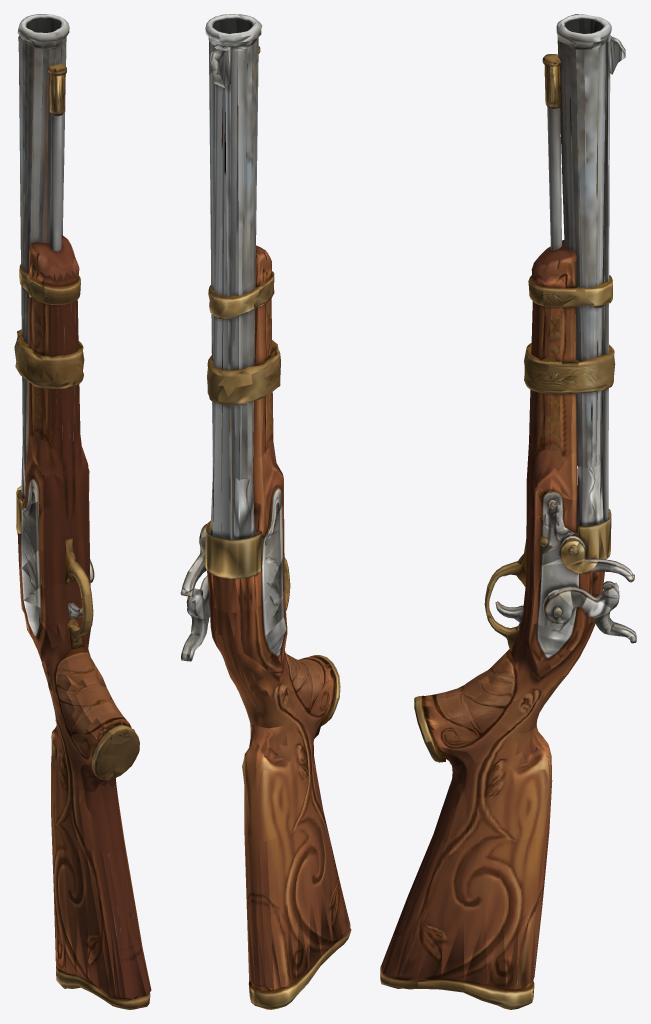
The model's file is Weapon_SingleRifle.fbx.
3 views of the same model, side by side, from view 1: azimuth 30°, elevation 25°; view 2: azimuth 150°, elevation 25°; view 3: azimuth 270°, elevation 25° (orthographic). The views are drawn at different scales.
Parts seen in each view (by area): view 1: Weapon_SingleRifle; view 2: Weapon_SingleRifle; view 3: Weapon_SingleRifle.
Part boxes in pixels (box(x1,y1,x2,y2)): Weapon_SingleRifle: box(14, 14, 151, 1009); Weapon_SingleRifle: box(180, 14, 351, 1009); Weapon_SingleRifle: box(380, 14, 636, 1009).
Bounding box in the file's own units: 0.052 × 0.76 × 0.18.
